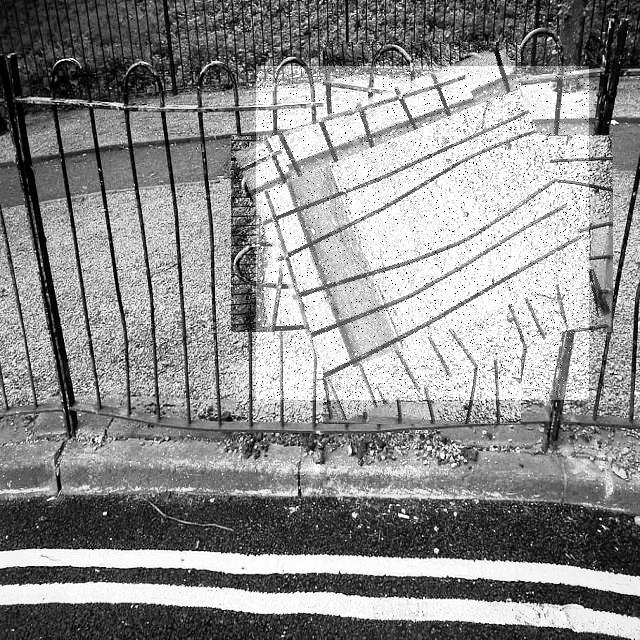anomaly-fence: (256, 66, 589, 400)
